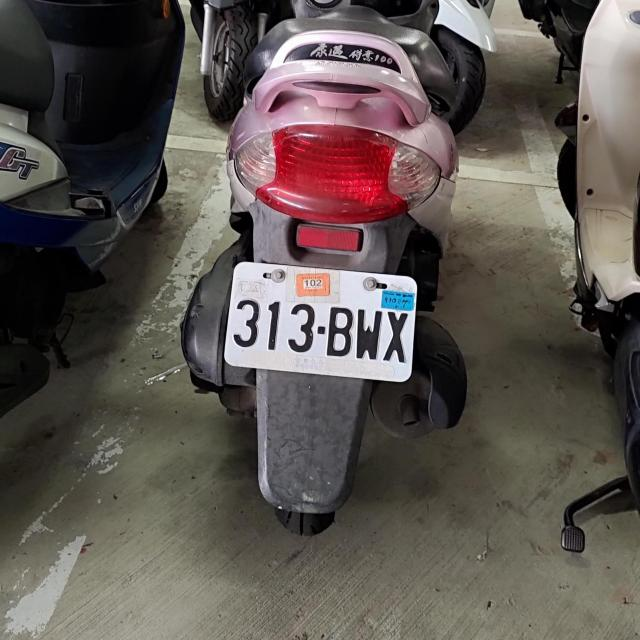W: (223, 260, 420, 382)
